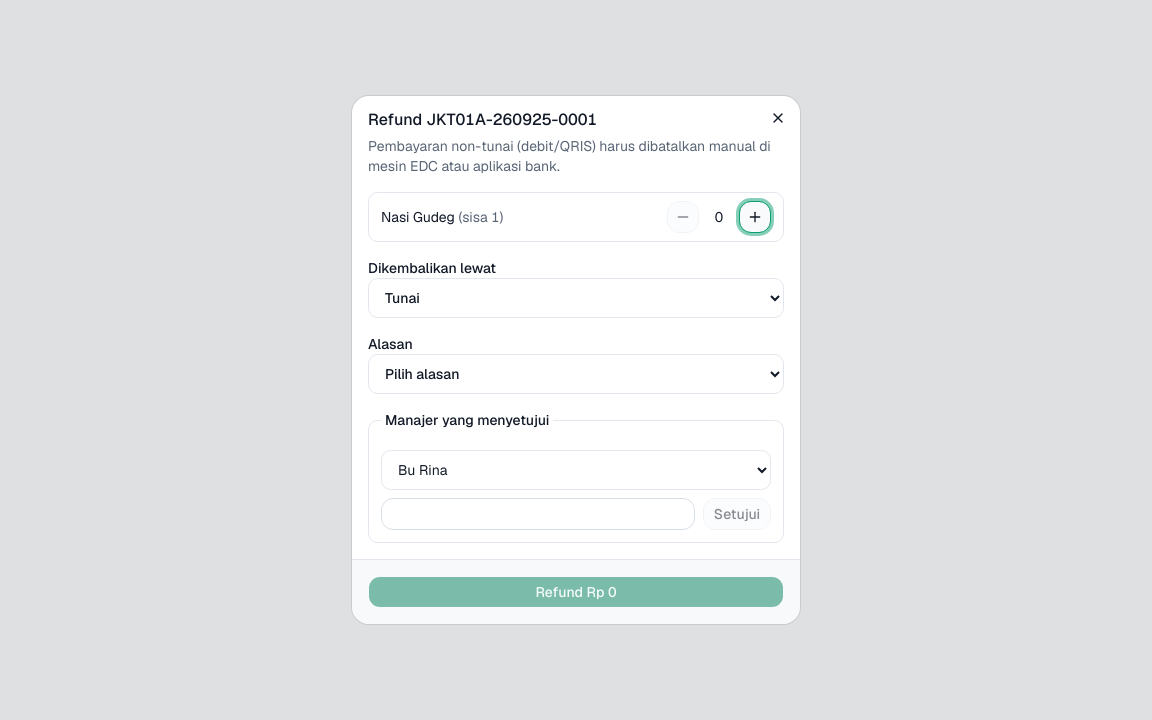
RefundDialog (ADR-023) › never lets the cashier refund more than is left
Click the button named "Tambah Nasi Gudeg": point(755, 217) [739,201,771,233]
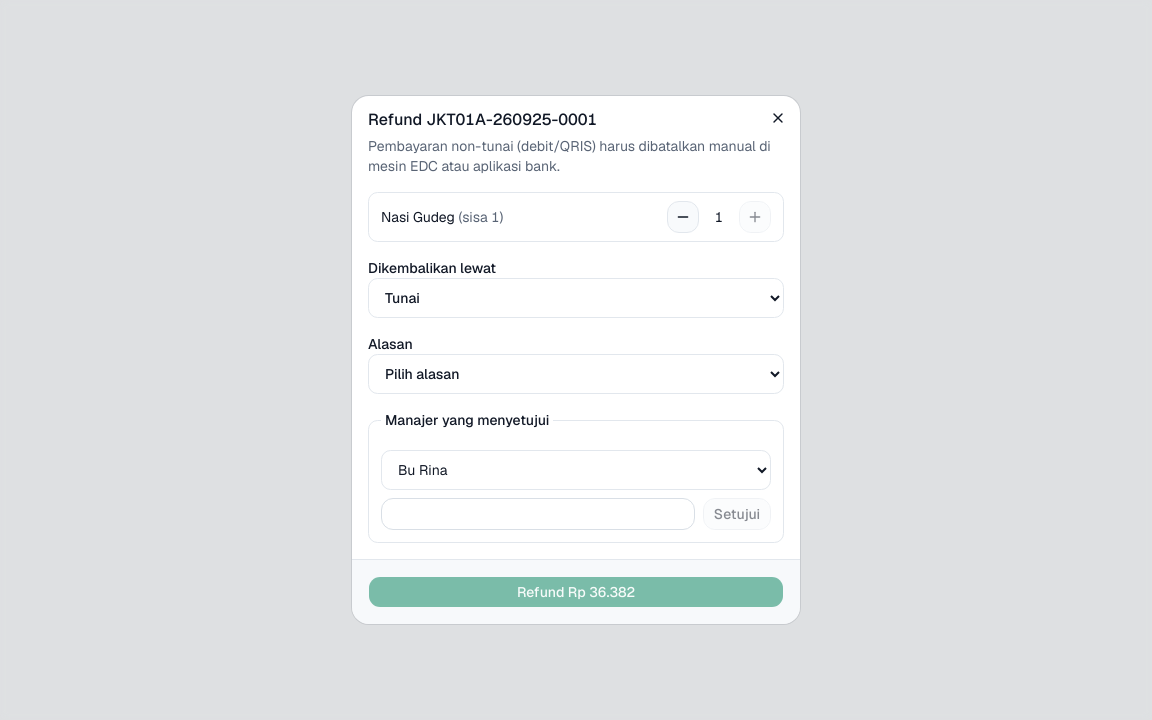
Check: the text named "Jumlah refund Nasi Gudeg" reads "1", box [715,208,723,226]
Check: the button named "Tambah Nasi Gudeg" is disabled, box [739,201,771,233]
